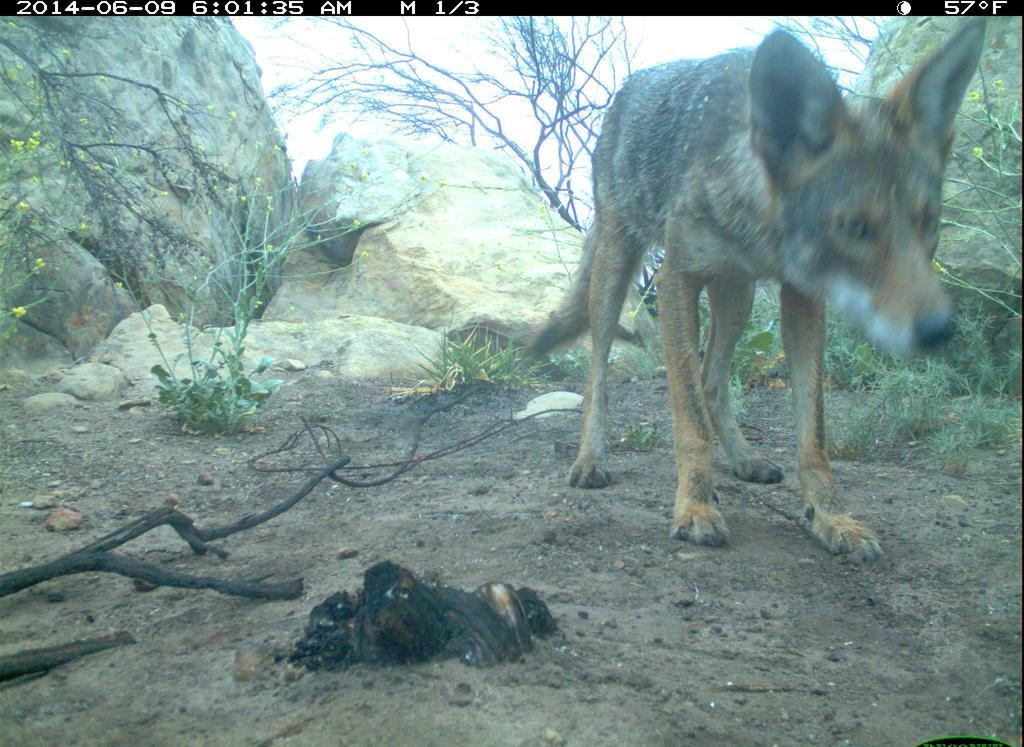coyote: (529, 22, 1005, 568)
